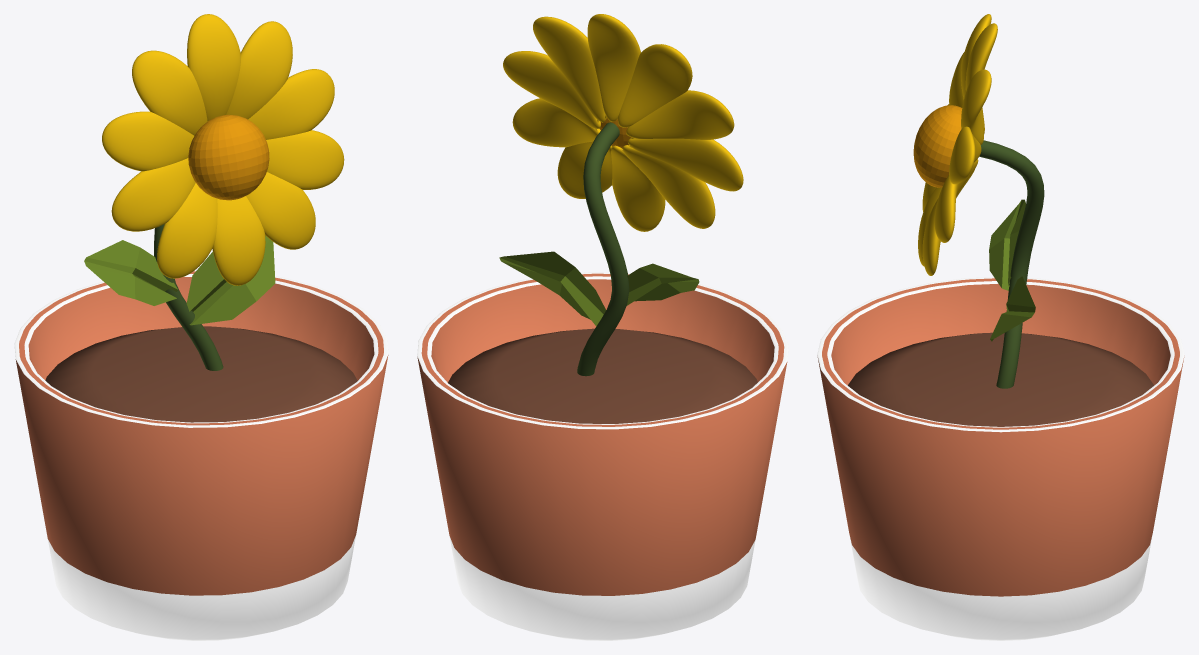
3 views of the same model, side by side, from view 1: azimuth 30°, elevation 25°; view 2: azimuth 150°, elevation 25°; view 3: azimuth 270°, elevation 25° (orthographic). The views are drawn at different scales.
Parts seen in each view (by area): view 1: Cylinder, Kelopak, Sphere.001, Plane.002, Plane.001, BézierCurve; view 2: Cylinder, Kelopak, BézierCurve, Plane.002, Plane.001; view 3: Cylinder, Kelopak, BézierCurve, Sphere.001, Plane.001, Plane.002.
Part boxes in pixels (<box>): Cylinder: <box>14,270,388,640</box>; Kelopak: <box>102,14,344,285</box>; Sphere.001: <box>188,114,269,200</box>; Plane.002: <box>186,235,275,325</box>; Plane.001: <box>84,240,177,305</box>; BézierCurve: <box>154,224,223,370</box>; Cylinder: <box>417,272,788,640</box>; Kelopak: <box>503,14,743,231</box>; BézierCurve: <box>577,122,629,376</box>; Plane.002: <box>499,251,606,326</box>; Plane.001: <box>626,263,699,305</box>; Cylinder: <box>817,277,1184,640</box>; Kelopak: <box>918,14,997,275</box>; BézierCurve: <box>979,140,1044,388</box>; Sphere.001: <box>913,105,962,187</box>; Plane.001: <box>989,199,1025,290</box>; Plane.002: <box>990,276,1035,341</box>.
Bounding box in the file's own units: 1.29 × 2.22 × 1.29.
